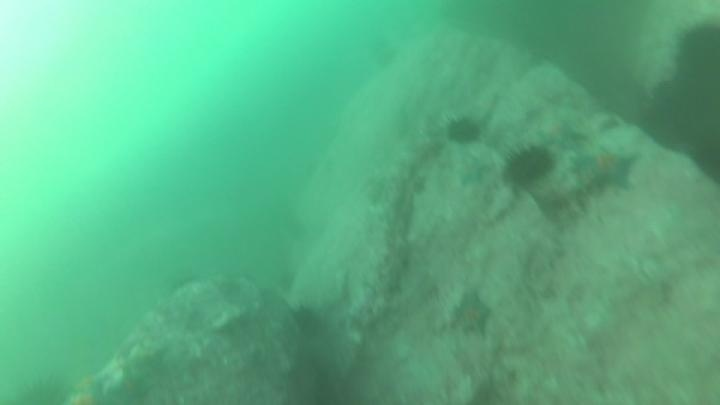echinus: (671, 18, 720, 87), (502, 143, 556, 189), (9, 373, 75, 405), (687, 134, 720, 189), (443, 113, 485, 148), (289, 303, 327, 341), (367, 35, 401, 72)
starfish: (572, 143, 642, 198), (448, 288, 496, 340), (534, 115, 585, 152), (62, 368, 110, 404), (107, 371, 155, 404), (452, 153, 492, 192)
